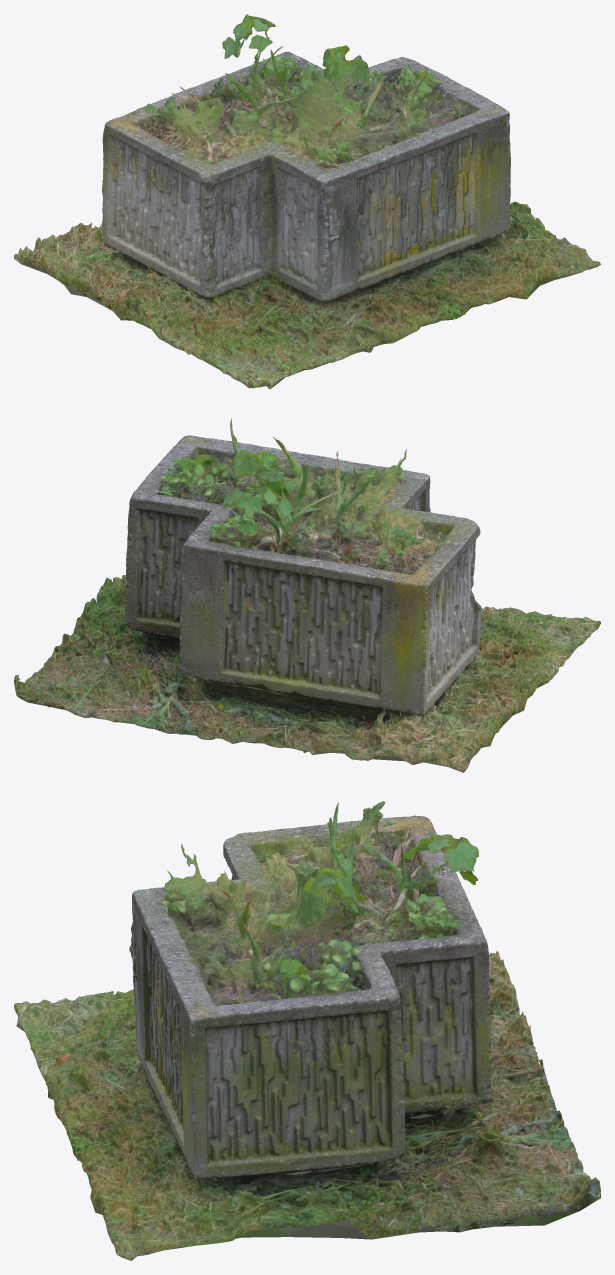
The model's file is sf-brutal-outdoor-concrete-flower-pot-bb5479.glb.
The picture shows the model from 3 angles, top to bottom: view 1: azimuth 30°, elevation 25°; view 2: azimuth 150°, elevation 25°; view 3: azimuth 270°, elevation 25°; orthographic projection. The views are drawn at different scales.
Visible parts, largest first — view 1: meshNode_Material_u1_v1_0; view 2: meshNode_Material_u1_v1_0; view 3: meshNode_Material_u1_v1_0.
Part boxes in pixels (x1,y1,x2,y2): meshNode_Material_u1_v1_0: [14, 14, 600, 389]; meshNode_Material_u1_v1_0: [14, 418, 600, 772]; meshNode_Material_u1_v1_0: [14, 801, 600, 1260].
Bounding box in the file's own units: 2.15 × 1.02 × 1.87.
1 material, 1 textured.
